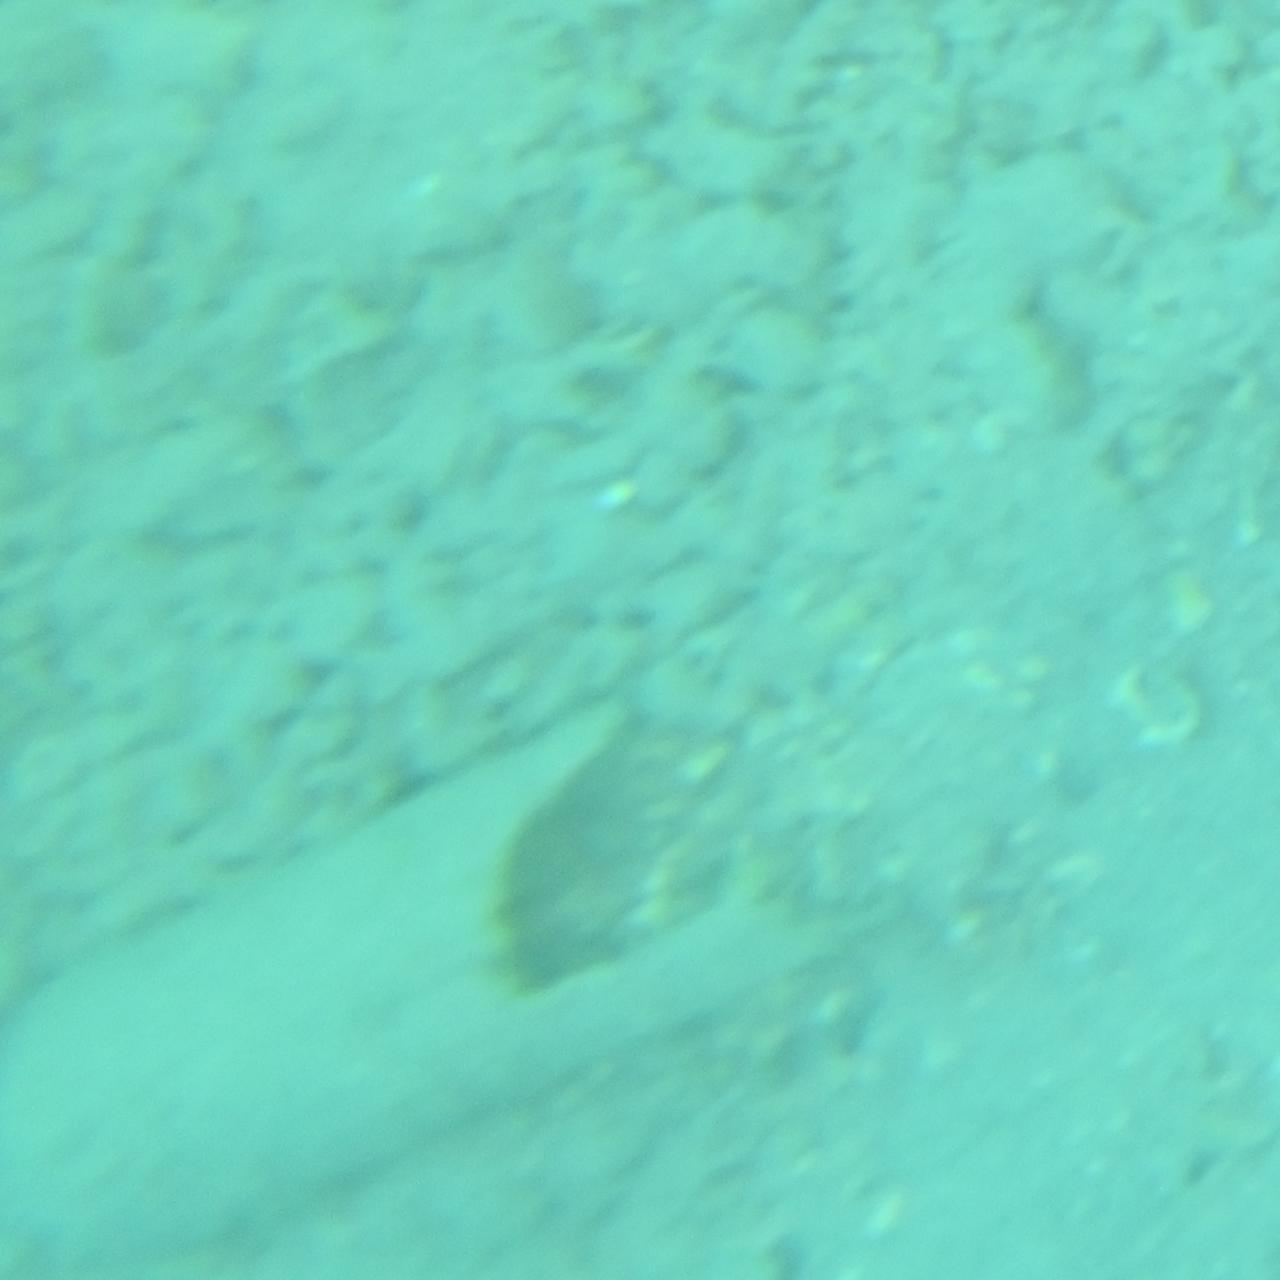Rifiuto: (0, 676, 906, 1280)
